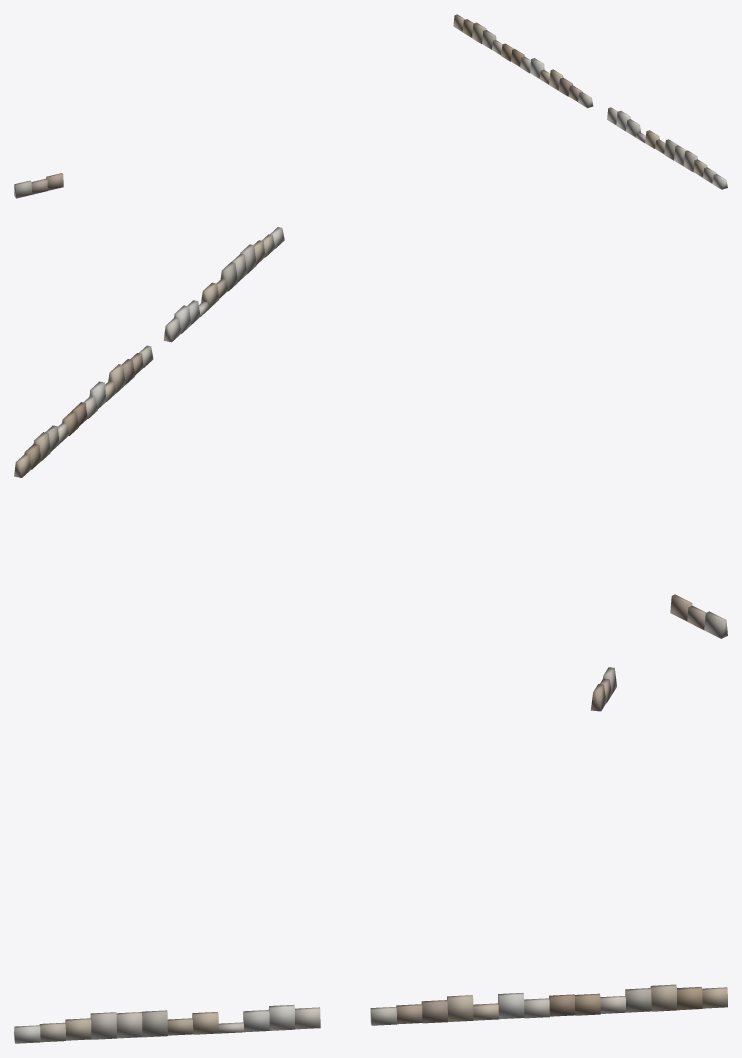
Rendered from farm_11_2_collision.glb.
The picture shows the model from 3 angles, top to bottom: view 1: azimuth 30°, elevation 25°; view 2: azimuth 150°, elevation 25°; view 3: azimuth 270°, elevation 25°; orthographic projection. The views are drawn at different scales.
Parts seen in each view (by area): view 1: geometry_0; view 2: geometry_0; view 3: geometry_0.
Part boxes in pixels (x1,y1,x2,y2): geometry_0: (14,14,727,198); geometry_0: (14,227,727,638); geometry_0: (14,667,727,1043).
Size of the model in its own units: 56.5 by 4.28 by 43.28.
